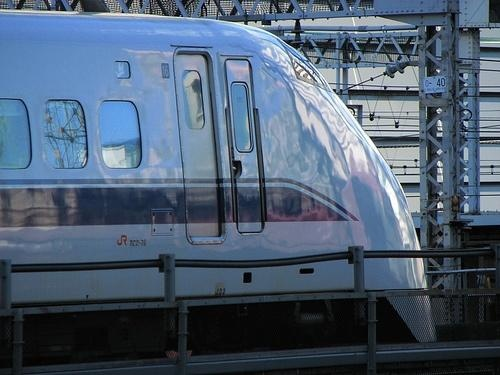train: (2, 10, 436, 342)
